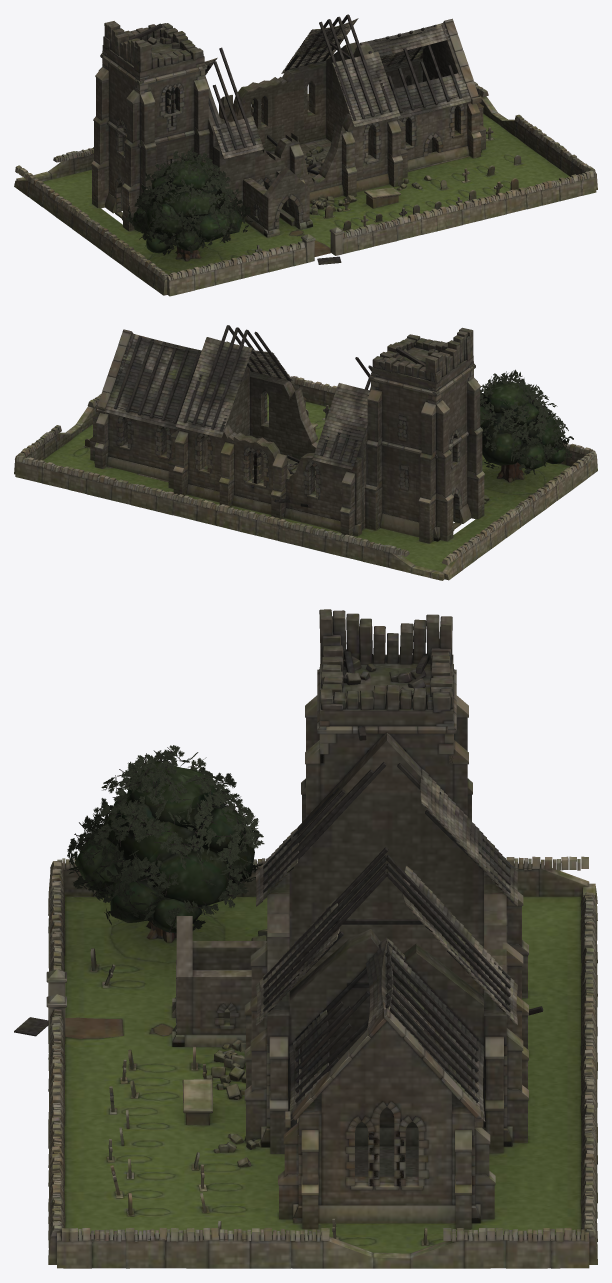
Rendered from church_ruin.glb.
The picture shows the model from 3 angles, top to bottom: view 1: azimuth 30°, elevation 25°; view 2: azimuth 150°, elevation 25°; view 3: azimuth 270°, elevation 25°; orthographic projection. The views are drawn at different scales.
Visible parts, largest first — view 1: church_ruin_LOD0, church_ruin_extra0; view 2: church_ruin_LOD0, church_ruin_extra0; view 3: church_ruin_LOD0, church_ruin_extra0.
Boxes of the visible parts, x1=… form: church_ruin_LOD0: x1=14, y1=14, x2=597, y2=296; church_ruin_extra0: x1=126, y1=147, x2=252, y2=255; church_ruin_LOD0: x1=14, y1=325, x2=597, y2=580; church_ruin_extra0: x1=480, y1=369, x2=573, y2=474; church_ruin_LOD0: x1=14, y1=609, x2=597, y2=1268; church_ruin_extra0: x1=67, y1=745, x2=264, y2=932.
Size of what is drawn, in the model's own units: 33.79 by 13.77 by 21.94.
2 materials, 2 textured.
